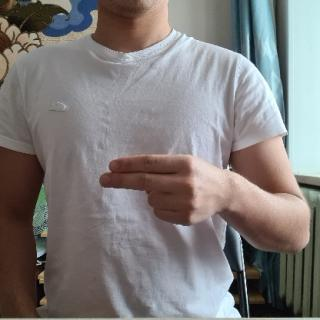AYN: (94, 152, 240, 228)
